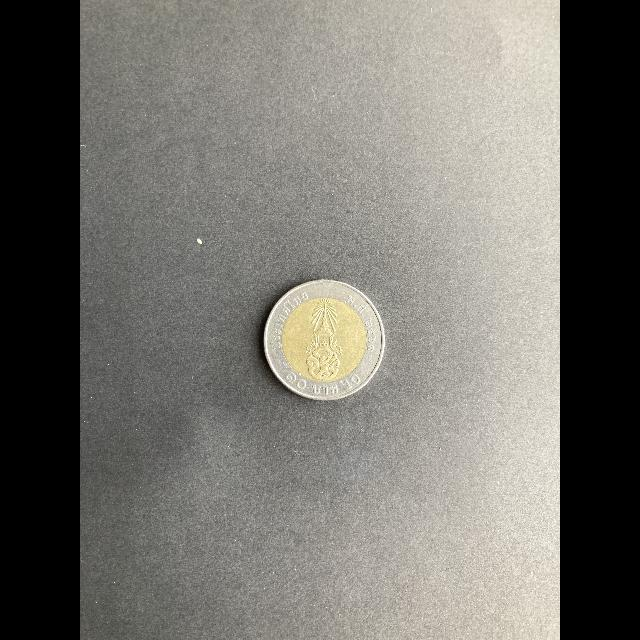10 Bath: (261, 280, 389, 406)
